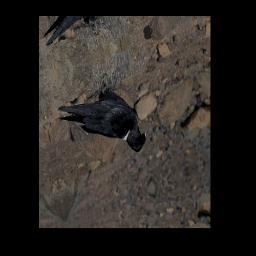Crow: (53, 57, 151, 184)
